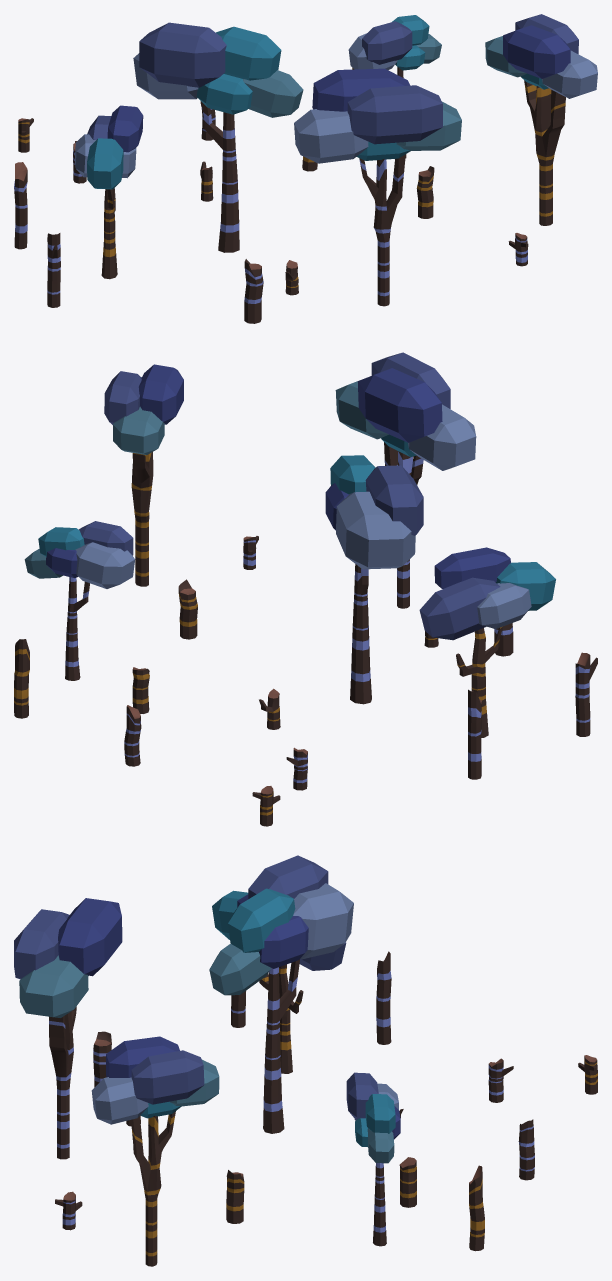
File: TreeCluster.fbx
The picture shows the model from 3 angles, top to bottom: view 1: azimuth 30°, elevation 25°; view 2: azimuth 150°, elevation 25°; view 3: azimuth 270°, elevation 25°; orthographic projection. The views are drawn at different scales.
Parts seen in each view (by area): view 1: pCube6 (×2), pCube4 (×2), pCube2 (×2), pCube5 (×2), pCube10 (×2), stem3, stem, stem1, pCube9 (×2), pCube11 (×2), pCube3 (×2), pCube8 (×2) (+14 smaller); view 2: pCube2 (×2), pCube8 (×2), pCube6 (×2), stem1 (×2), pCube3 (×2), pCube13, pCube4 (×2), pCube5, pCube10 (×2), stem3, pCube14, pCube16 (+11 smaller); view 3: pCube4 (×2), pCube2 (×2), stem1 (×2), pCube3 (×2), pCube10 (×2), pCube6 (×2), pCube8, pCube9 (×2), stem3, stem, pCube5, pCube7 (+12 smaller).
Part boxes in pixels (x1,y1,x2,y2): pCube6 (×2): [139, 21, 412, 87]; pCube4 (×2): [347, 14, 578, 144]; pCube2 (×2): [312, 25, 570, 111]; pCube5 (×2): [294, 50, 597, 163]; pCube10 (×2): [216, 15, 429, 80]; stem3: [524, 80, 565, 225]; stem: [359, 154, 405, 306]; stem1: [201, 102, 239, 252]; pCube9 (×2): [243, 34, 441, 117]; pCube11 (×2): [196, 45, 425, 114]; pCube3 (×2): [396, 36, 526, 150]; pCube8 (×2): [133, 33, 397, 99]; pCube2 (×2): [138, 364, 442, 442]; pCube8 (×2): [75, 491, 415, 588]; pCube6 (×2): [79, 465, 423, 555]; stem1 (×2): [65, 564, 371, 704]; pCube3 (×2): [113, 381, 388, 454]; pCube13: [419, 577, 500, 640]; pCube4 (×2): [104, 352, 450, 424]; pCube5: [408, 404, 476, 470]; pCube10 (×2): [38, 455, 375, 556]; stem3: [131, 452, 153, 586]; pCube14: [434, 547, 510, 588]; pCube16: [477, 583, 531, 629]; pCube4 (×2): [14, 909, 204, 1104]; pCube2 (×2): [58, 898, 179, 1077]; stem1 (×2): [263, 959, 386, 1246]; pCube3 (×2): [19, 955, 219, 1106]; pCube10 (×2): [228, 888, 395, 1133]; pCube6 (×2): [248, 855, 378, 1119]; pCube8: [293, 883, 353, 959]; pCube9 (×2): [209, 943, 394, 1163]; stem3: [131, 1111, 175, 1266]; stem: [49, 1006, 76, 1159]; pCube5: [91, 1077, 148, 1124]; pCube7: [259, 916, 308, 968].
Bounding box in the file's own units: 112 × 49.69 × 106.
